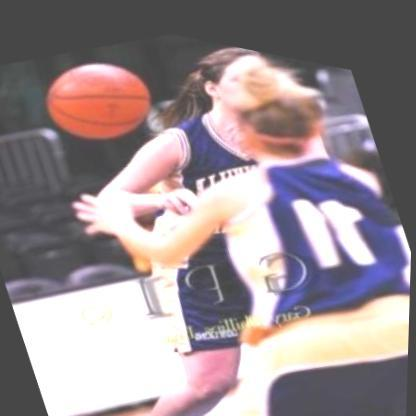basketball: (26, 23, 173, 171)
